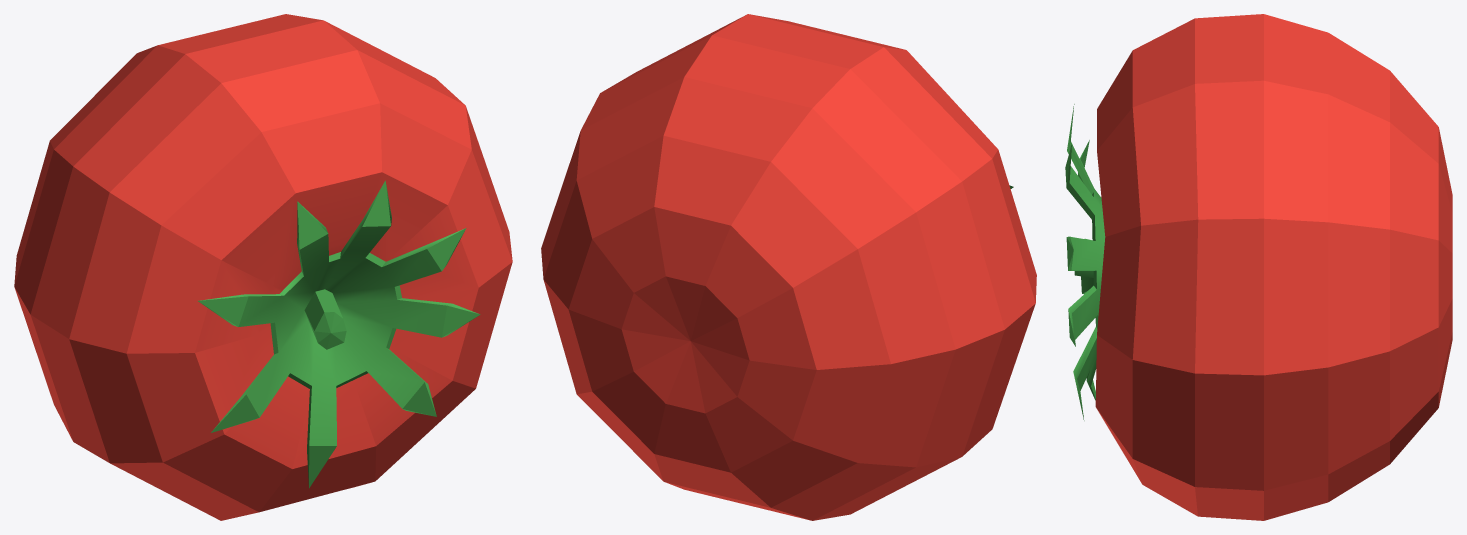
The model's file is tomato.glb.
The picture shows the model from 3 angles, left to right: view 1: azimuth 30°, elevation 25°; view 2: azimuth 150°, elevation 25°; view 3: azimuth 270°, elevation 25°; orthographic projection.
Visible parts, largest first — view 1: node-0; view 2: node-0; view 3: node-0.
Boxes of the visible parts, x1,y1,x2,y2 form: node-0: (14, 14, 512, 520); node-0: (541, 14, 1036, 520); node-0: (1065, 14, 1452, 520).
Bounding box in the file's own units: 49.26 × 46.85 × 37.35.
